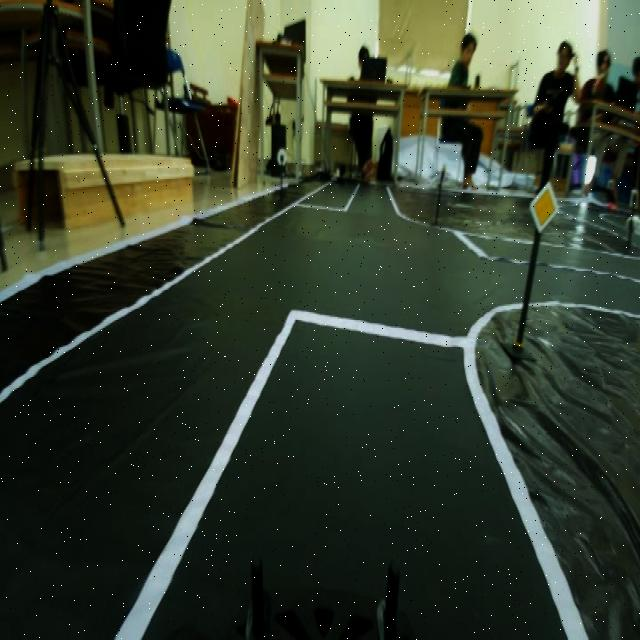priority: (528, 171, 554, 231)
